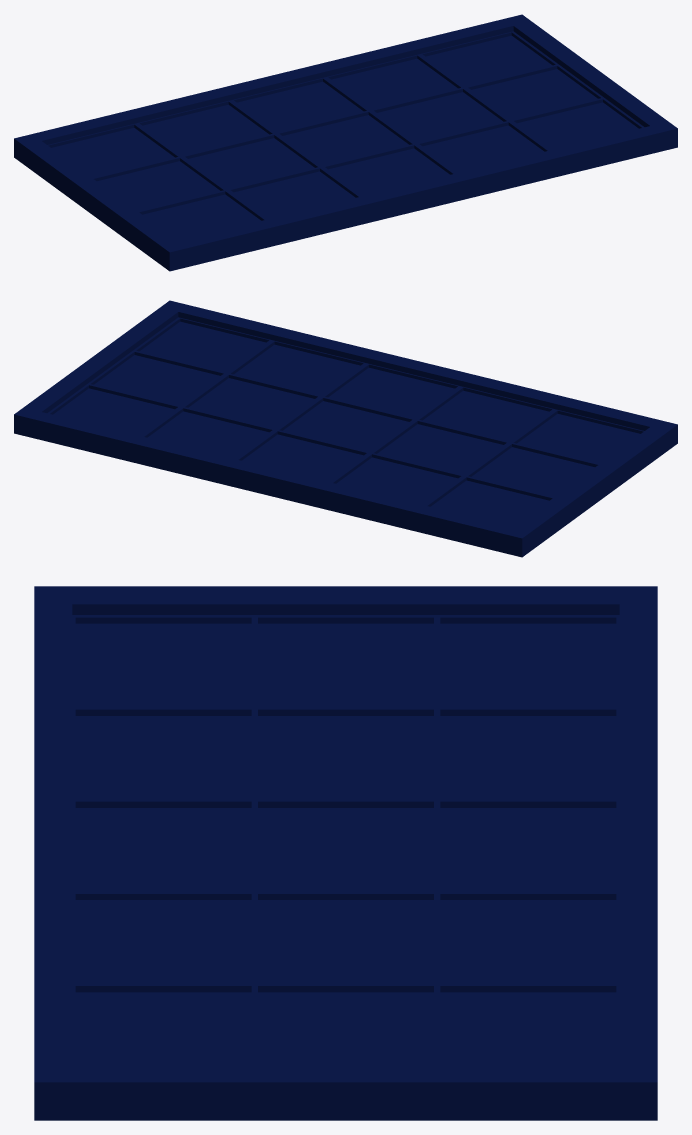
File: chessPad.fbx
3 views of the same model, one above another, from view 1: azimuth 30°, elevation 25°; view 2: azimuth 150°, elevation 25°; view 3: azimuth 270°, elevation 25° (orthographic). The views are drawn at different scales.
Parts seen in each view (by area): view 1: 棋盘; view 2: 棋盘; view 3: 棋盘.
Part boxes in pixels (bbox=[...]): 棋盘: bbox=[14, 14, 677, 271]; 棋盘: bbox=[14, 300, 677, 557]; 棋盘: bbox=[34, 586, 657, 1120].
Bounding box in the file's own units: 5592 × 200 × 2968.
